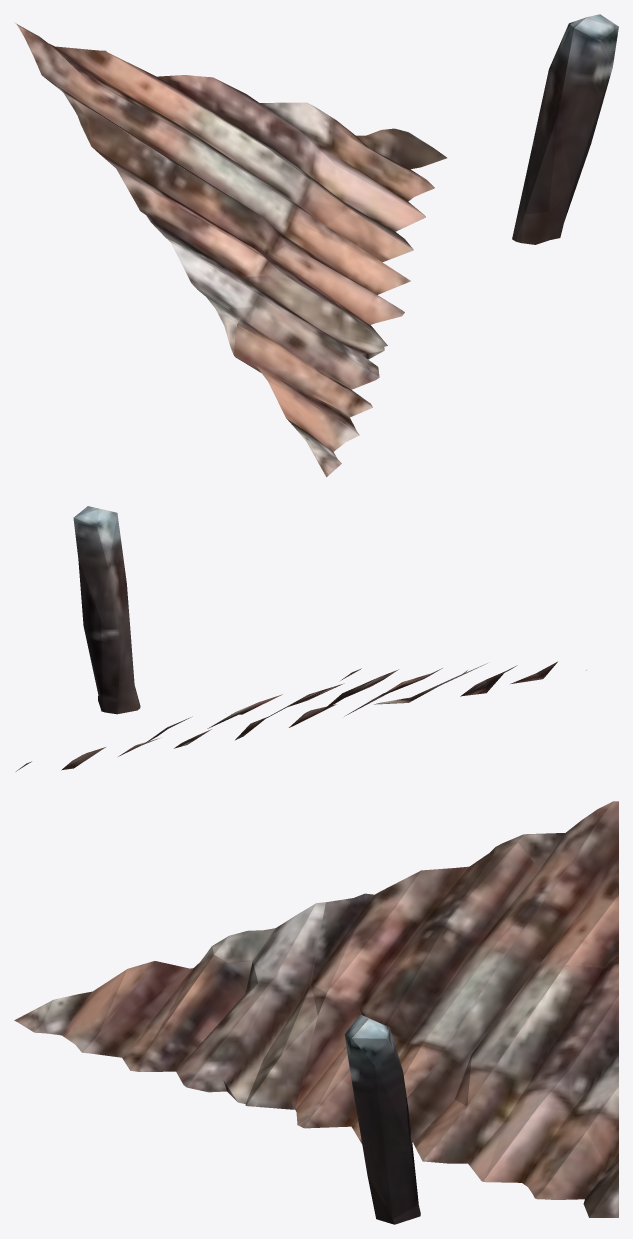
3 views of the same model, one above another, from view 1: azimuth 30°, elevation 25°; view 2: azimuth 150°, elevation 25°; view 3: azimuth 270°, elevation 25° (orthographic). The views are drawn at different scales.
Bounding box in the file's own units: 1.49 × 0.691 × 1.73.
1 material, 1 textured.
